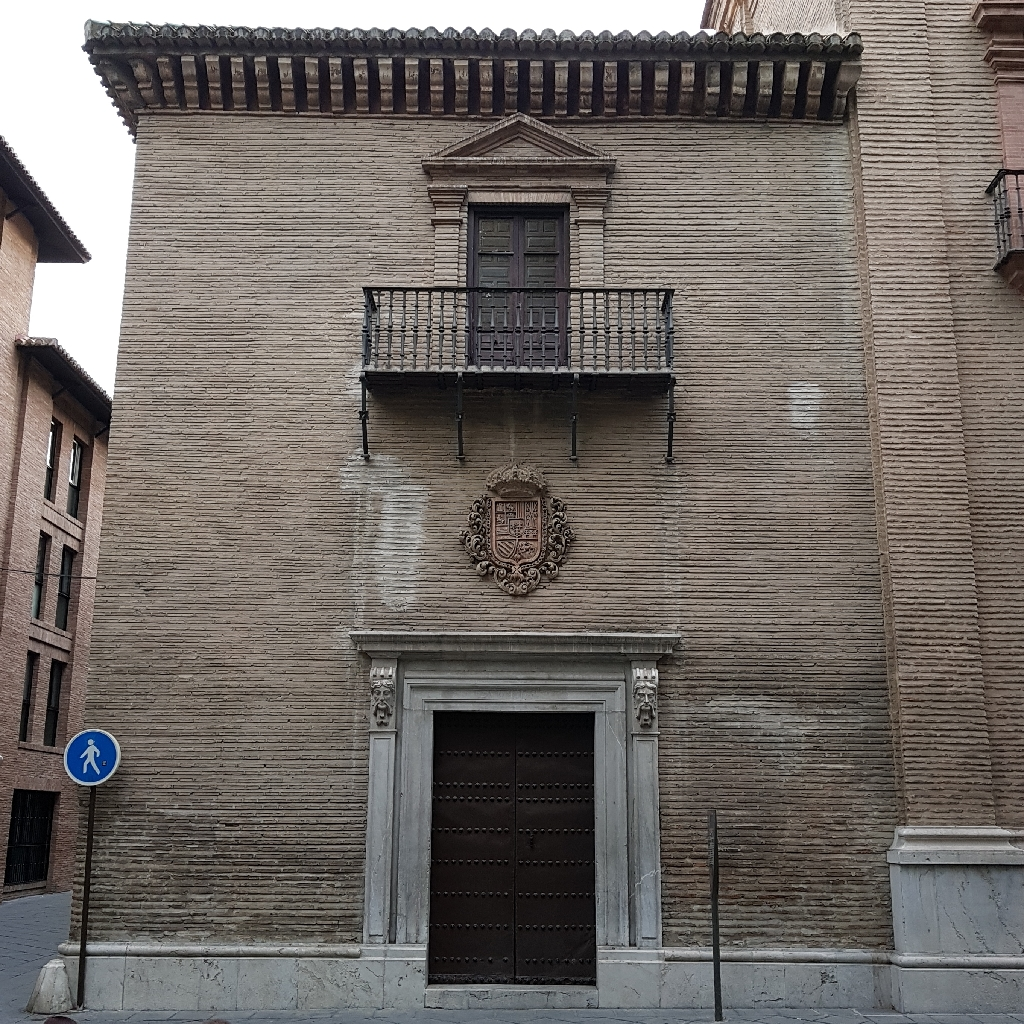fronton: (419, 111, 616, 167)
vano-adintelado: (390, 665, 634, 994), (448, 180, 582, 373)
